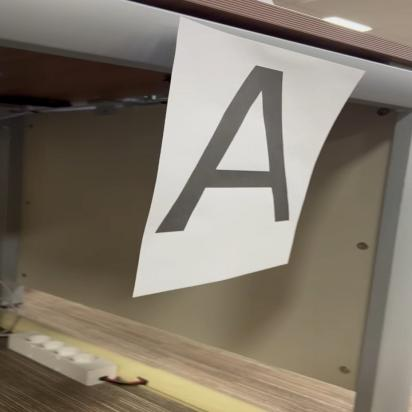seat: (135, 58, 329, 238)
